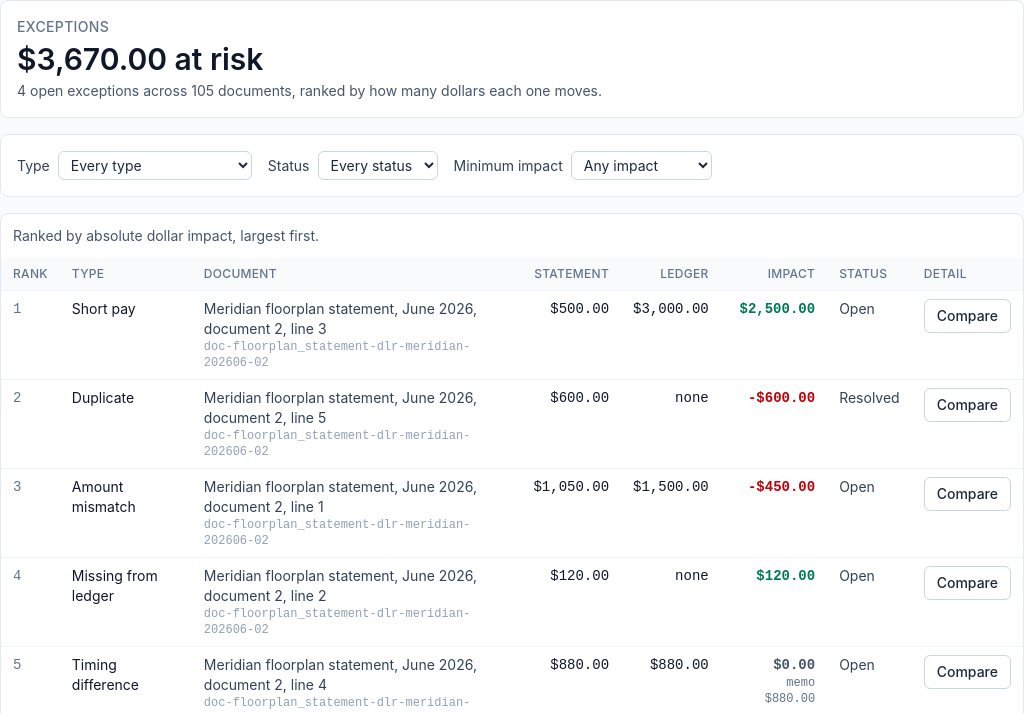
Test: the exceptions dashboard › expands a row to the statement line and the ledger entry side by side
Click the button "Compare" in the row of "Amount mismatch": (967, 494) [924,477,1011,511]
(page scrolled)
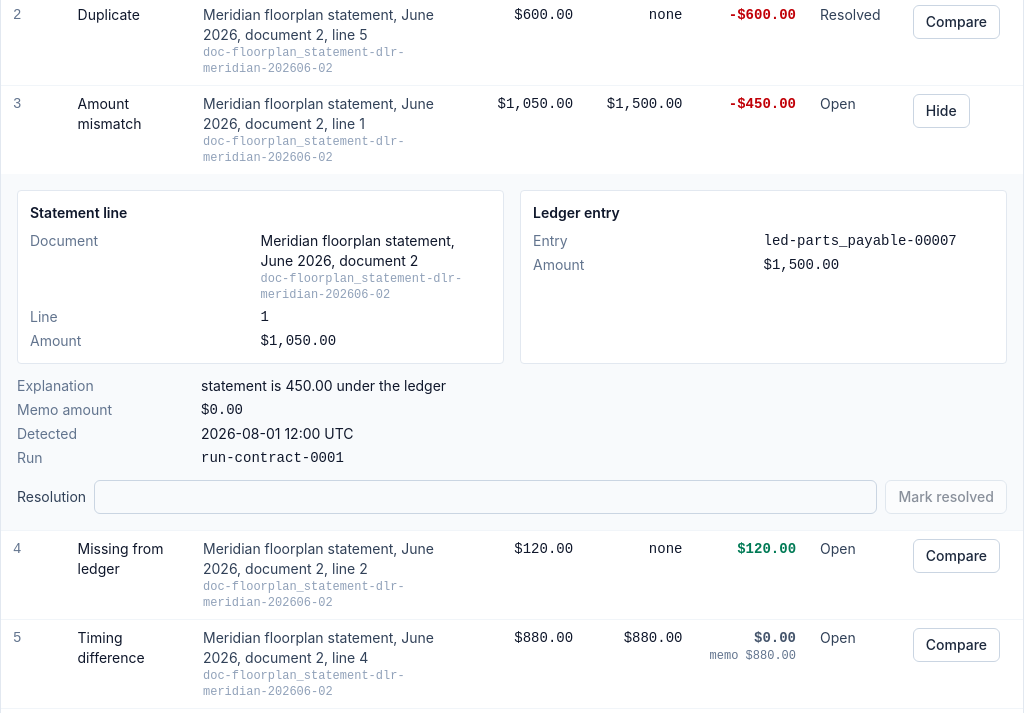
Expected: the heading "Statement line" is shown, [30,204,127,221]
Expected: the cell with id "exception-detail-exc-1" is shown, [1,174,1023,530]
Expected: the heading "Ledger entry" is shown, [533,204,620,221]
